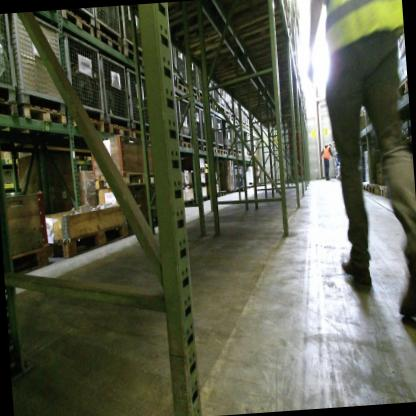pallet: (50, 223, 131, 271), (7, 236, 54, 286), (17, 97, 70, 133), (96, 171, 161, 194), (61, 8, 97, 44), (93, 27, 124, 54), (71, 111, 105, 134), (105, 122, 134, 143), (0, 94, 23, 119), (122, 46, 145, 70), (131, 127, 156, 145), (394, 77, 408, 99), (177, 182, 195, 197), (180, 197, 196, 212), (378, 182, 390, 201), (176, 80, 189, 95), (196, 195, 209, 209), (219, 186, 237, 196), (371, 178, 379, 197), (361, 181, 371, 196), (182, 140, 193, 150), (223, 149, 234, 159), (194, 141, 203, 152), (189, 92, 200, 101), (244, 184, 252, 195), (202, 144, 210, 155), (231, 115, 238, 125), (200, 97, 207, 107), (215, 106, 222, 115), (208, 102, 215, 111), (214, 191, 220, 201), (211, 145, 217, 155), (217, 148, 224, 156), (235, 117, 241, 126), (225, 112, 231, 121), (232, 151, 238, 159), (241, 123, 247, 131), (242, 154, 249, 160), (201, 180, 205, 190), (248, 154, 253, 161), (248, 185, 255, 190), (237, 152, 241, 160), (201, 168, 205, 173), (246, 126, 249, 131)
stillage: (10, 10, 70, 113), (60, 26, 106, 120), (98, 46, 132, 130), (124, 58, 156, 137), (0, 15, 20, 97), (121, 6, 146, 62), (93, 6, 126, 43), (173, 41, 190, 88), (170, 89, 184, 141), (179, 94, 194, 140), (191, 101, 202, 142), (167, 40, 178, 78), (188, 61, 199, 94), (198, 107, 208, 142), (196, 67, 207, 96), (231, 166, 244, 190), (215, 115, 224, 147), (223, 123, 233, 151), (244, 132, 254, 157), (205, 73, 214, 100), (235, 123, 243, 153), (209, 112, 216, 145), (219, 85, 226, 111), (223, 89, 231, 111), (230, 126, 237, 151), (213, 81, 220, 106), (234, 97, 240, 118), (241, 103, 246, 122), (245, 108, 250, 125), (229, 96, 234, 113)
